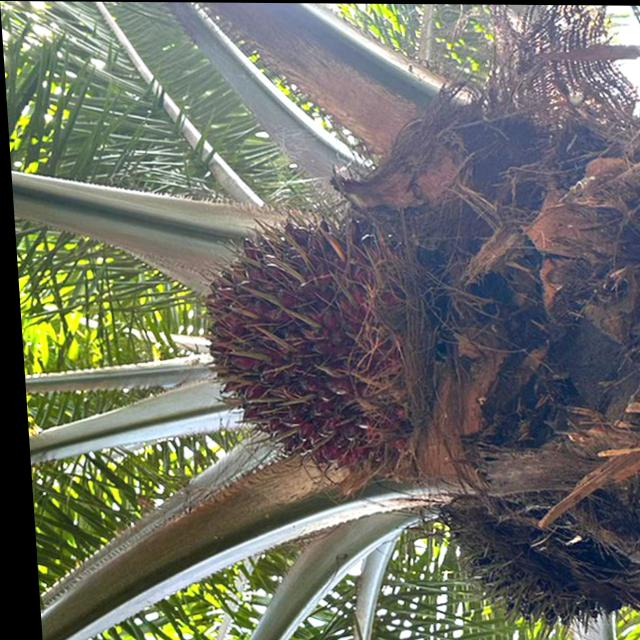ripe: (172, 192, 430, 498)
